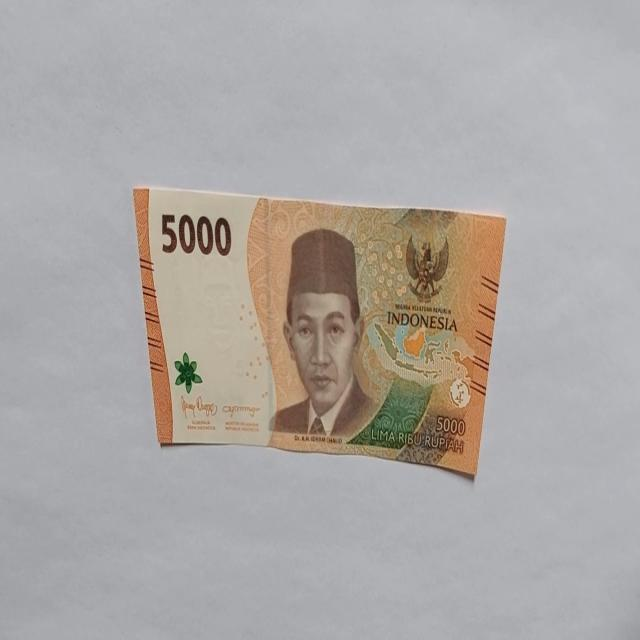lima ribu rupiah: (132, 183, 507, 479), (268, 227, 378, 441)
